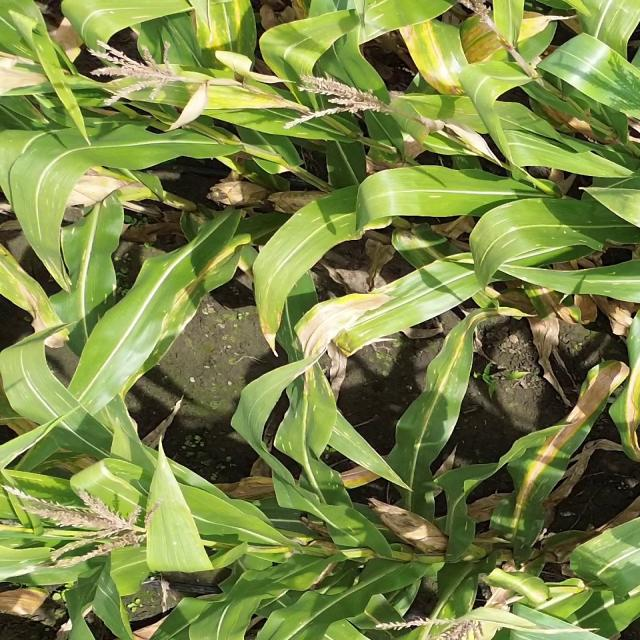gray-leaf-spot: (286, 377, 365, 495), (23, 377, 118, 468), (12, 144, 90, 249), (345, 8, 403, 56)
northern-leaf-blight: (504, 363, 627, 552), (394, 26, 482, 100), (176, 84, 306, 124)
southern-leaf-blight: (524, 215, 640, 298), (414, 346, 468, 448), (207, 14, 267, 80)
